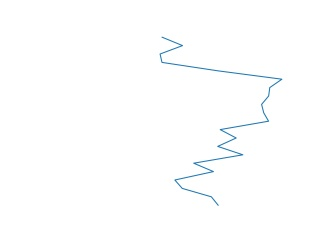floodPlain: (158, 36, 284, 208)
